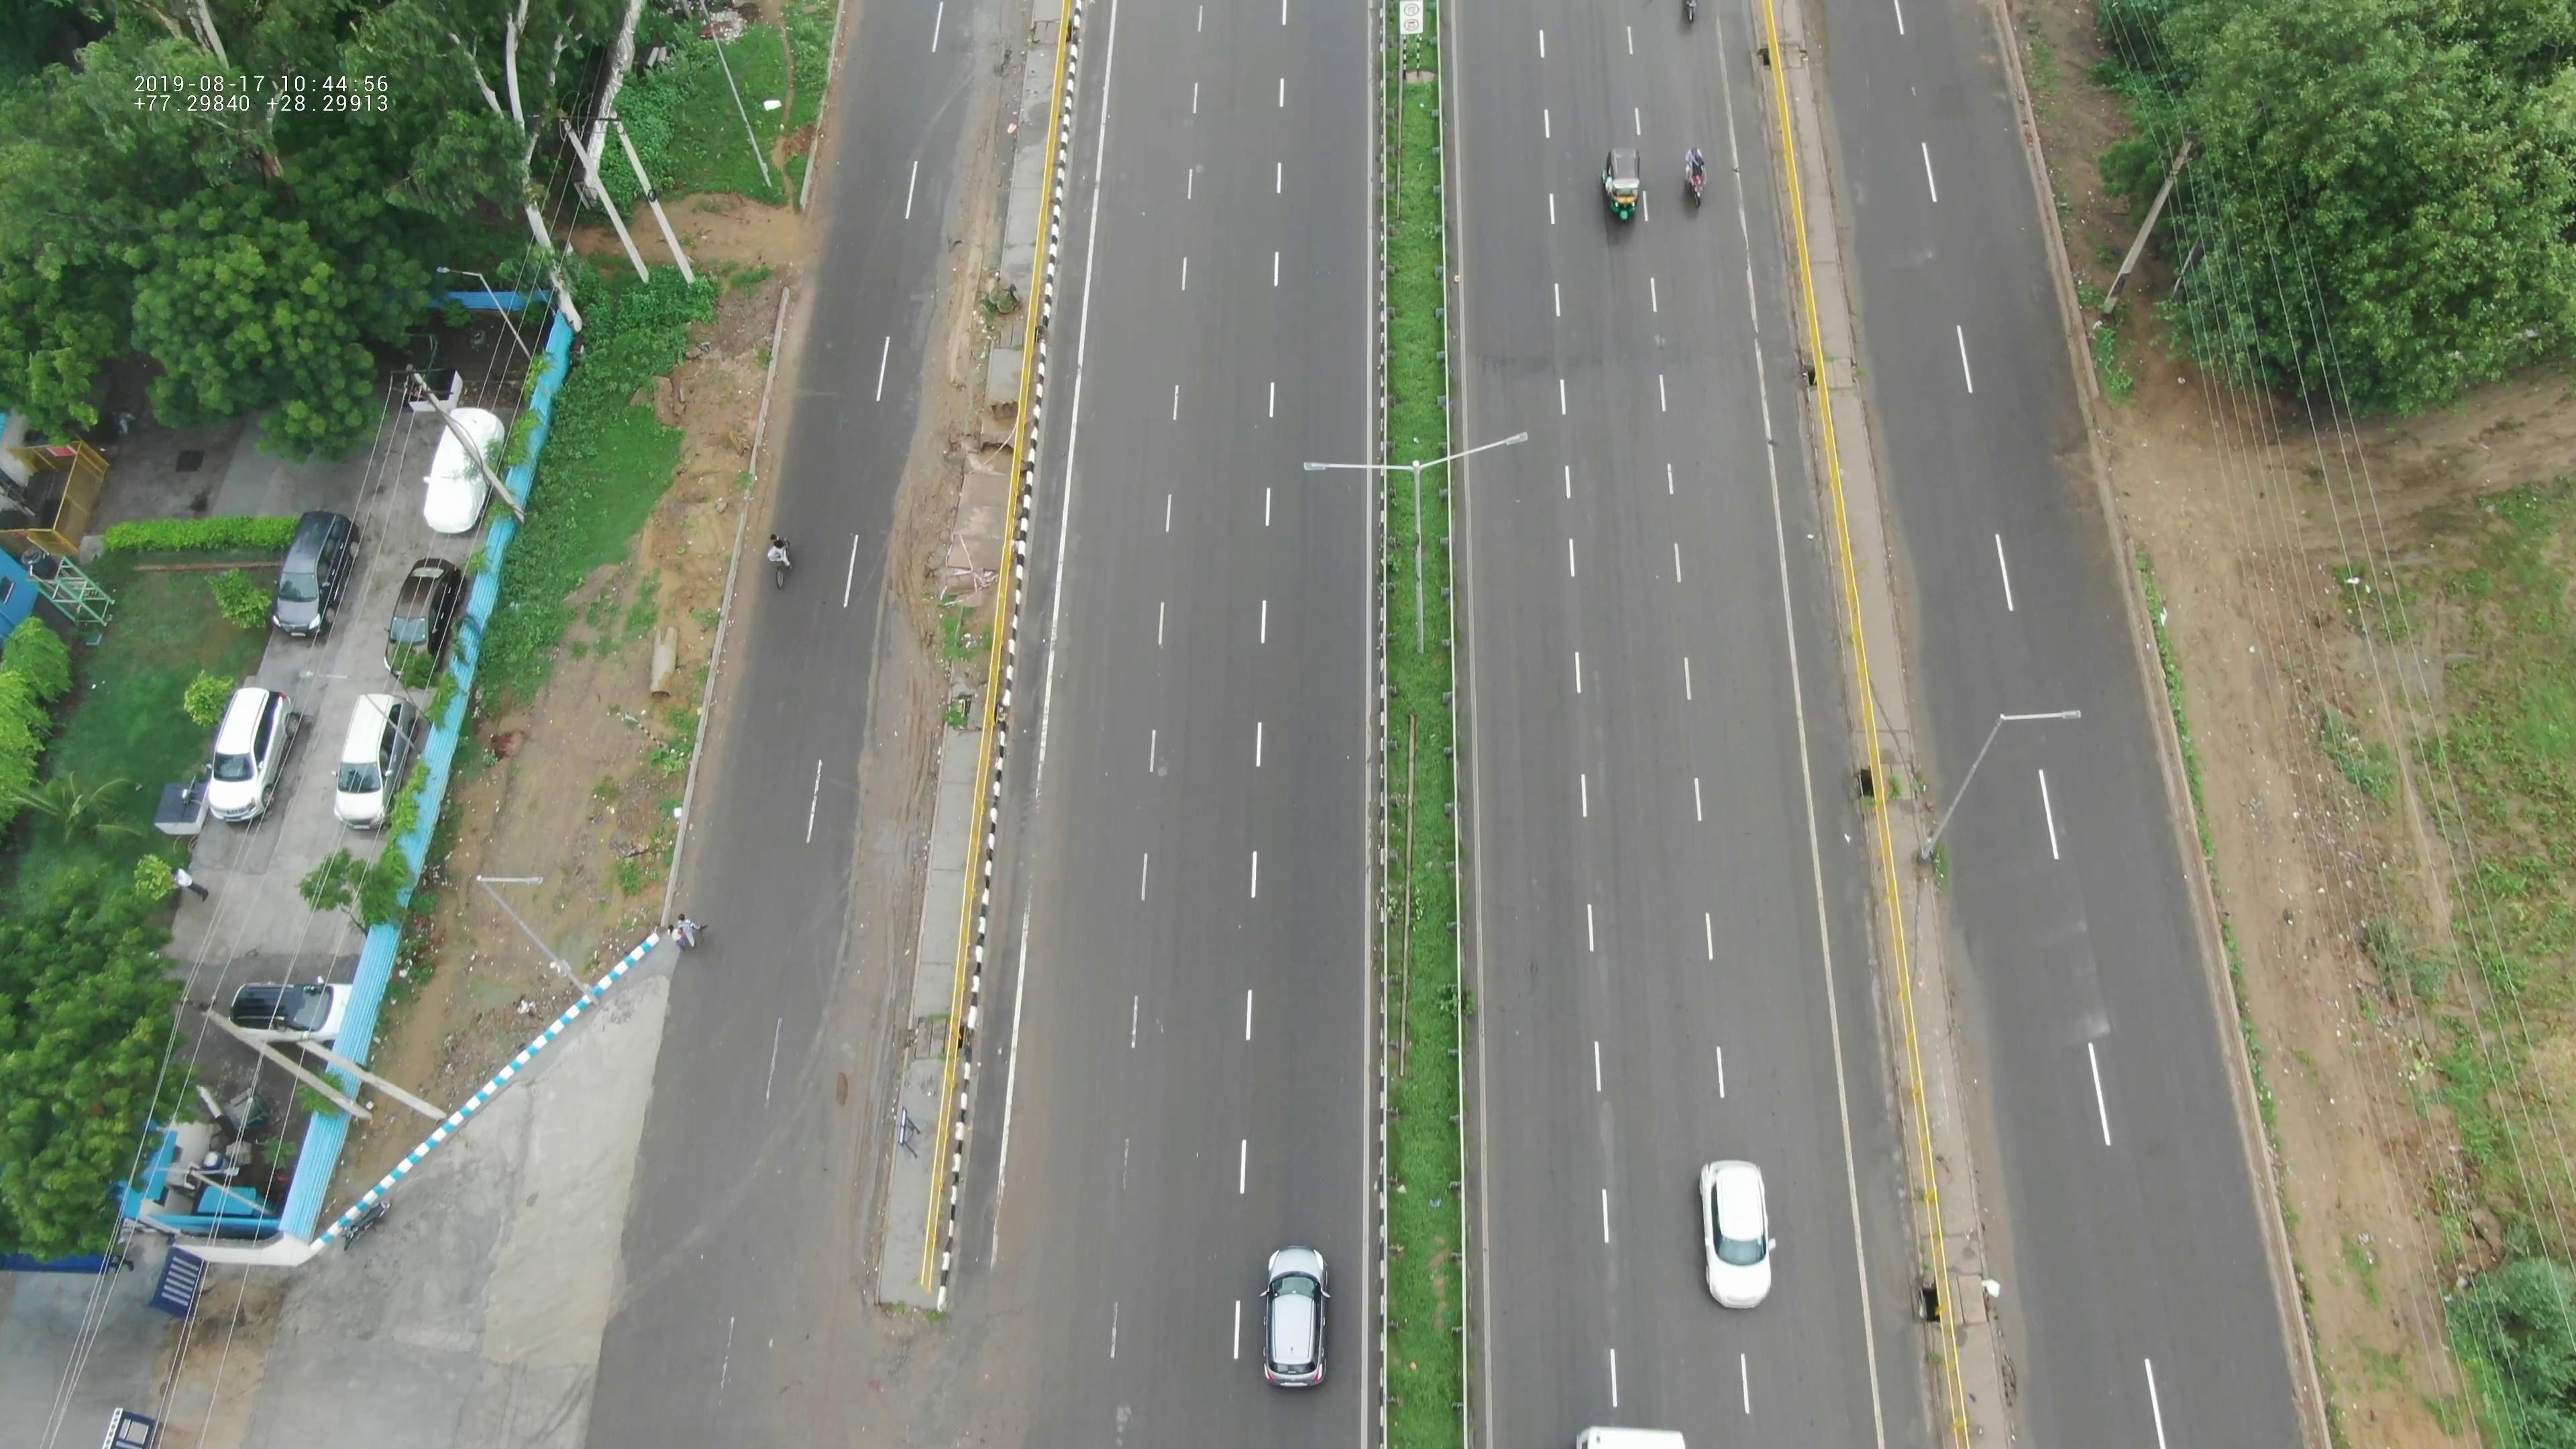Muddy_road: (870, 402, 955, 672)
